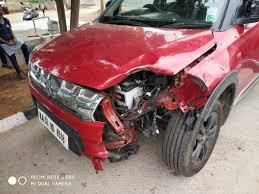bonnet-dent: (64, 27, 193, 90)
fender-dent: (193, 51, 237, 112)
front-bumper-dent: (30, 114, 166, 160)
